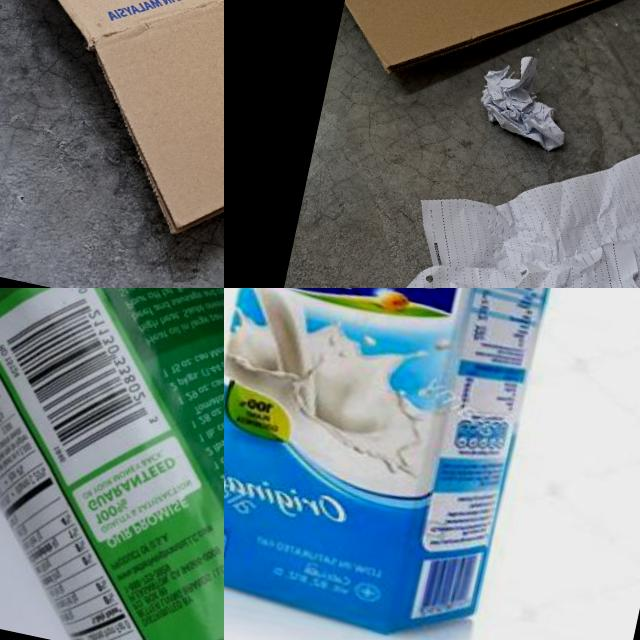caixinha: (224, 288, 579, 640)
lata: (0, 288, 224, 640)
papel: (391, 77, 640, 288), (283, 184, 640, 288), (470, 46, 578, 152)
papelão: (0, 0, 224, 288), (330, 0, 640, 133)
